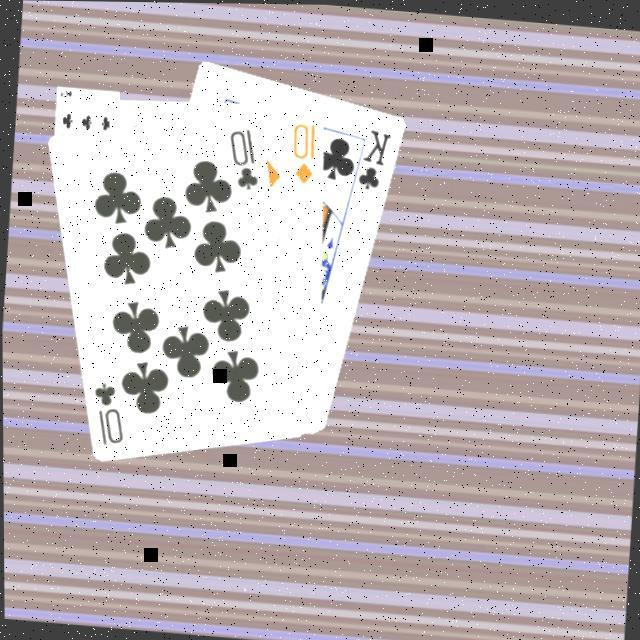10C: (84, 375, 128, 448), (220, 121, 264, 192)
10D: (284, 116, 319, 184)
KC: (343, 121, 392, 196)
